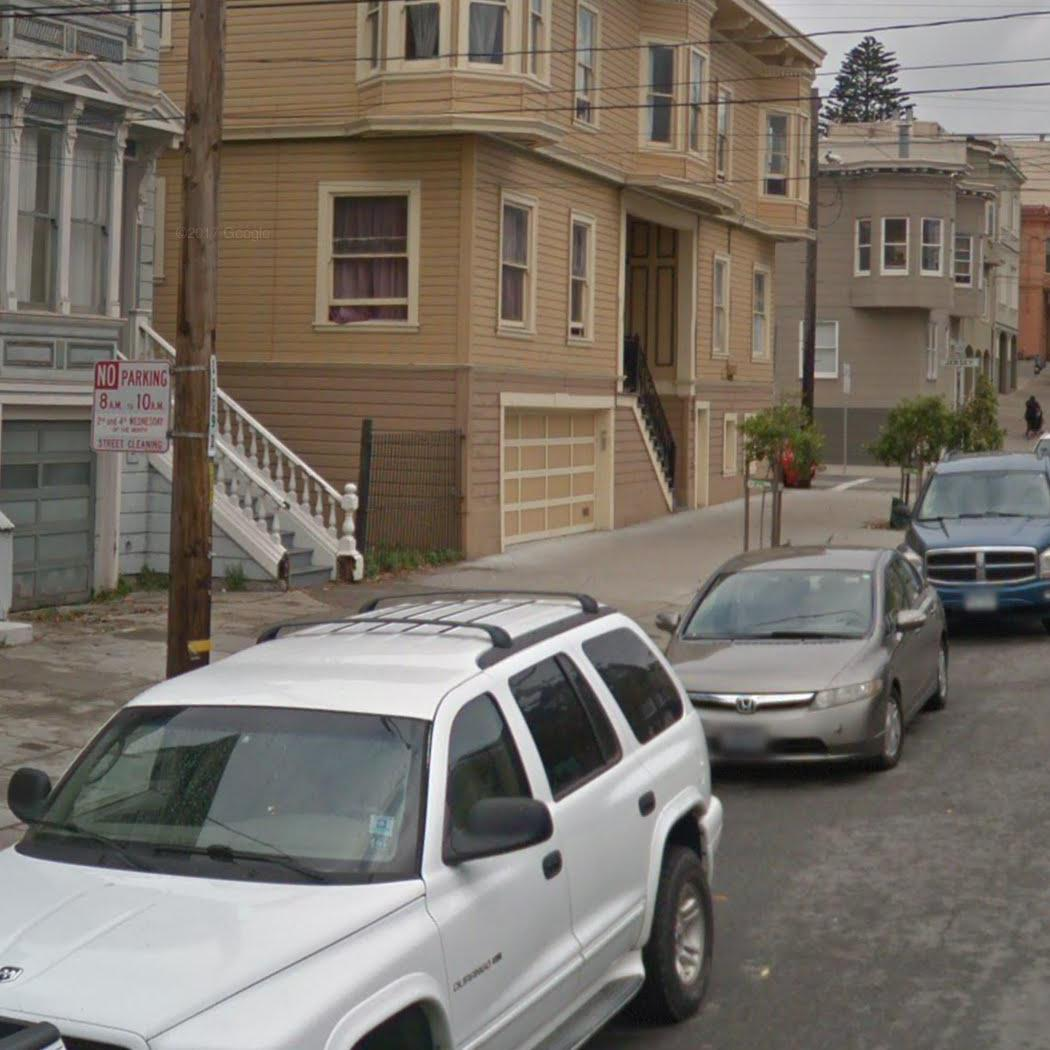No Parking: (87, 358, 174, 460)
